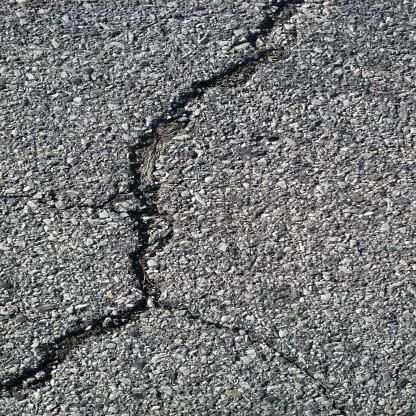Cracks: (0, 2, 314, 395)
